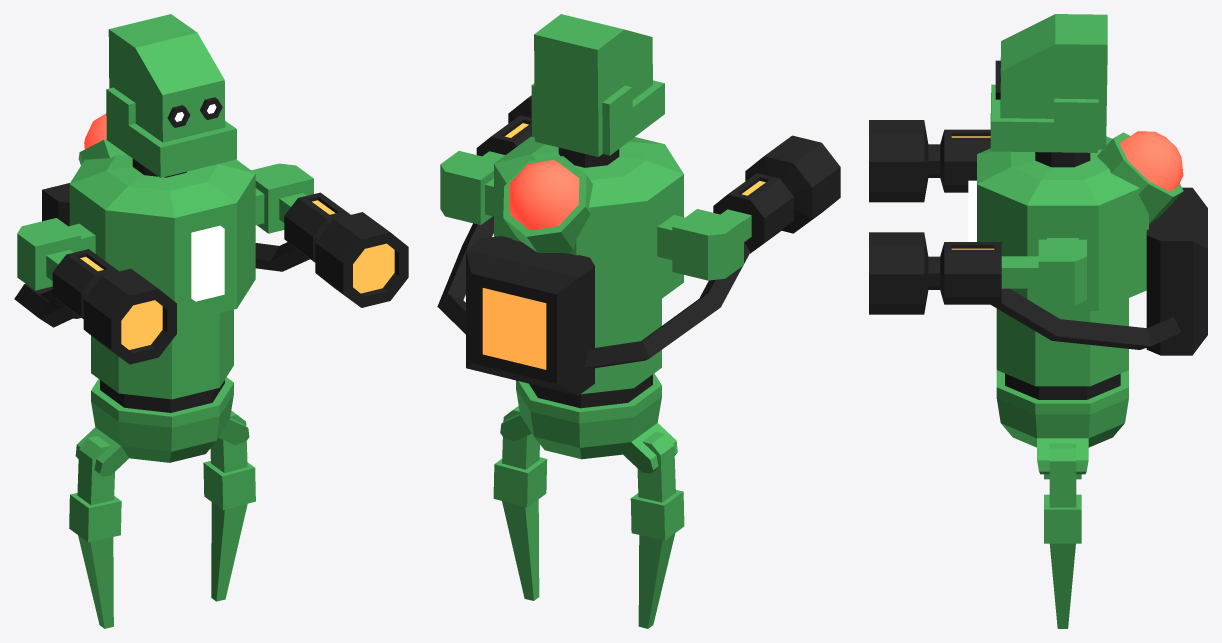
The model's file is FlameBot.fbx.
The picture shows the model from 3 angles, left to right: view 1: azimuth 30°, elevation 25°; view 2: azimuth 150°, elevation 25°; view 3: azimuth 270°, elevation 25°; orthographic projection. The views are drawn at different scales.
Visible parts, largest first — view 1: UpperBody, LowerBody, Flamers; view 2: Flamers, UpperBody, LowerBody, BotHealth; view 3: UpperBody, Flamers, LowerBody, BotHealth.
Part boxes in pixels (x1,y1,x2,y2): UpperBody: (69, 14, 255, 323); LowerBody: (69, 309, 255, 628); Flamers: (14, 163, 408, 364); Flamers: (437, 95, 840, 395); UpperBody: (494, 14, 683, 315); LowerBody: (493, 299, 684, 628); BotHealth: (509, 160, 579, 230); UpperBody: (968, 14, 1183, 310); Flamers: (869, 120, 1207, 355); LowerBody: (996, 298, 1128, 628); BotHealth: (1119, 131, 1183, 191).
Size of the model in its own units: 1.16 by 2.15 by 1.16.
